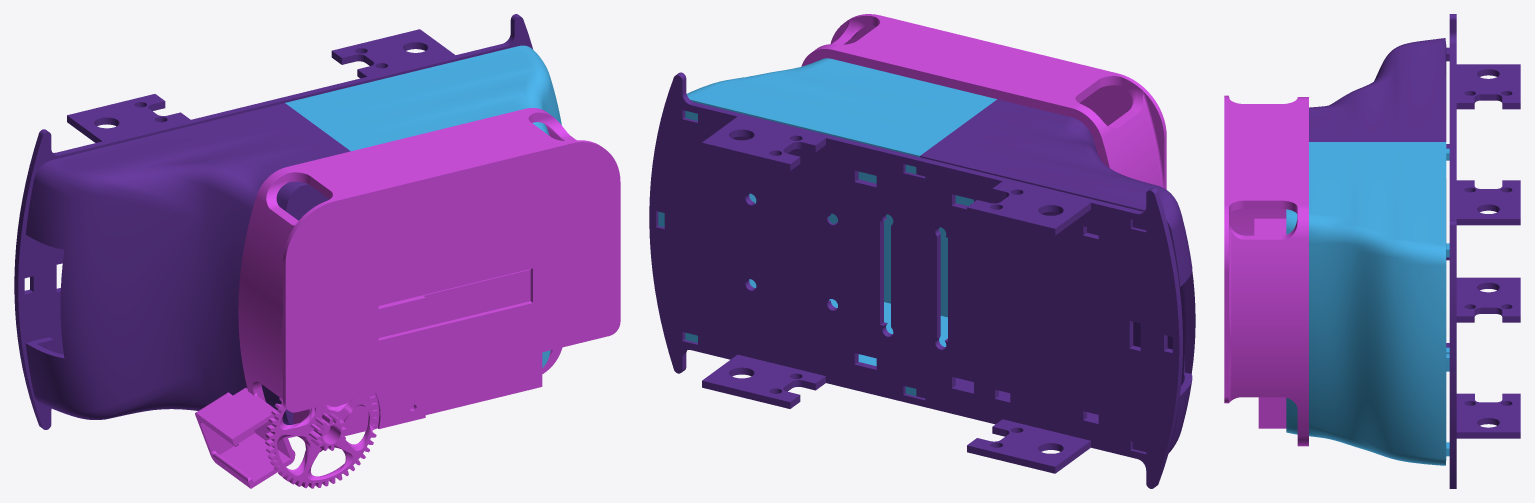
3 renders of one model, left to right at view 1: azimuth 30°, elevation 25°; view 2: azimuth 150°, elevation 25°; view 3: azimuth 270°, elevation 25°, orthographic. The views are drawn at different scales.
Parts seen in each view (by area): view 1: Body1, Body14:1, Body2, Body14, MeshBody3, Body3; view 2: Body2, Body1, Body14, Body14:1; view 3: Body14, Body1, Body2, Body14:1, Body3.
Boxes of the visible parts, x1,y1,x2,y2 form: Body1: (195, 108, 620, 488); Body14:1: (25, 103, 350, 424); Body2: (14, 14, 532, 429); Body14: (285, 45, 561, 367); MeshBody3: (265, 296, 425, 488); Body3: (293, 269, 542, 424); Body2: (649, 72, 1182, 488); Body1: (801, 14, 1166, 189); Body14: (658, 58, 996, 395); Body14:1: (916, 99, 1195, 453); Body14: (1286, 142, 1449, 465); Body1: (1224, 95, 1308, 446); Body2: (1449, 14, 1520, 488); Body14:1: (1309, 38, 1449, 347); Body3: (1258, 218, 1286, 428).
Size of the model in its own units: 240 by 136 by 130.
